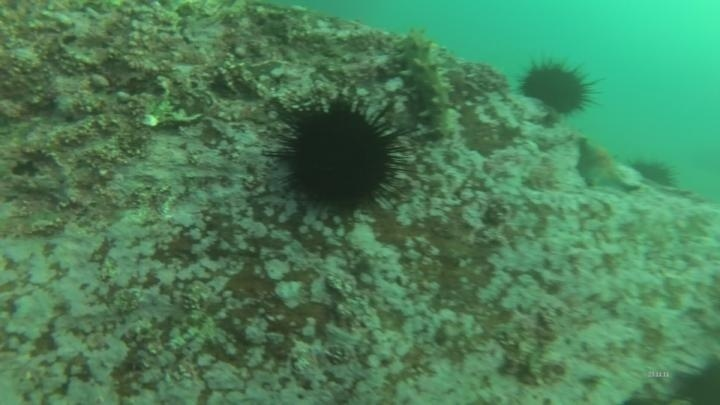echinus: (267, 91, 413, 224), (516, 54, 601, 119), (663, 350, 720, 403), (628, 154, 680, 191)
holothurian: (391, 26, 460, 142)
starfish: (572, 135, 642, 195)
